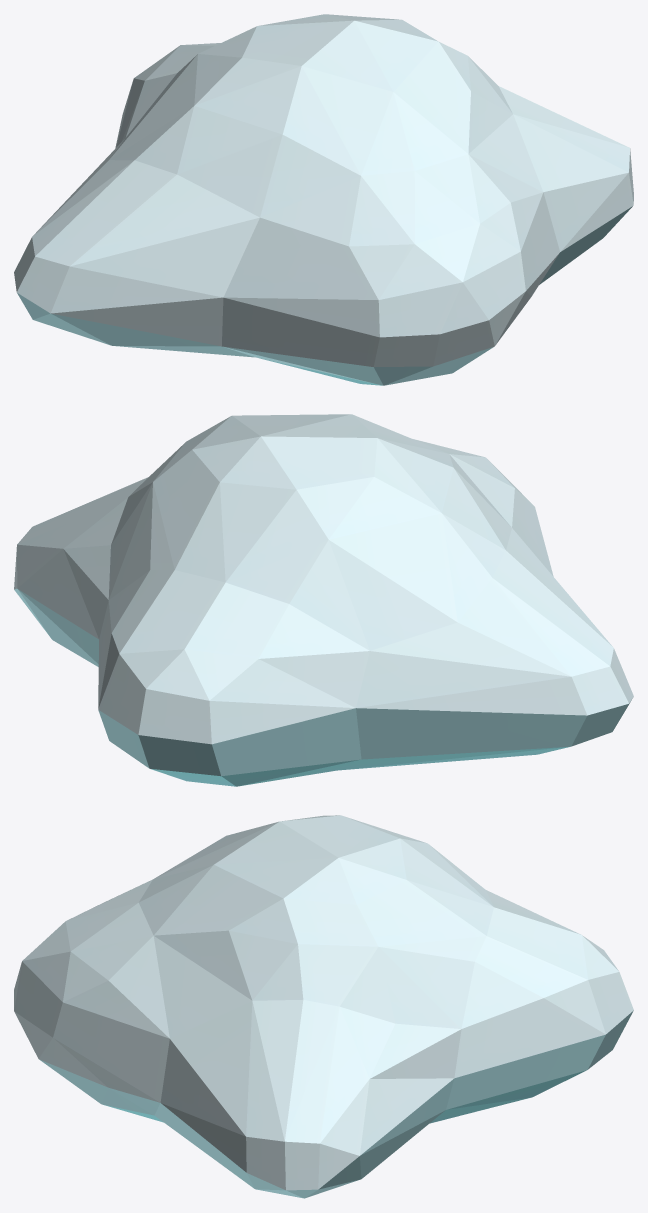
File: bg_other_007.fbx
3 renders of one model, top to bottom at view 1: azimuth 30°, elevation 25°; view 2: azimuth 150°, elevation 25°; view 3: azimuth 270°, elevation 25°, orthographic. The views are drawn at different scales.
Visible parts, largest first — view 1: Cloud; view 2: Cloud; view 3: Cloud.
Boxes of the visible parts, x1,y1,x2,y2 form: Cloud: (14,14,633,385); Cloud: (14,414,633,786); Cloud: (14,815,633,1198).
Bounding box in the file's own units: 5.23 × 2.2 × 4.77.
